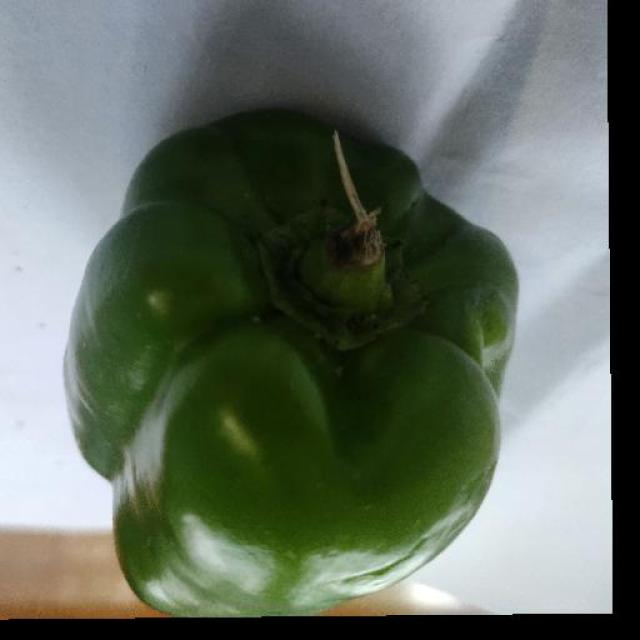Fresh_Capsicum: (92, 130, 523, 595)
